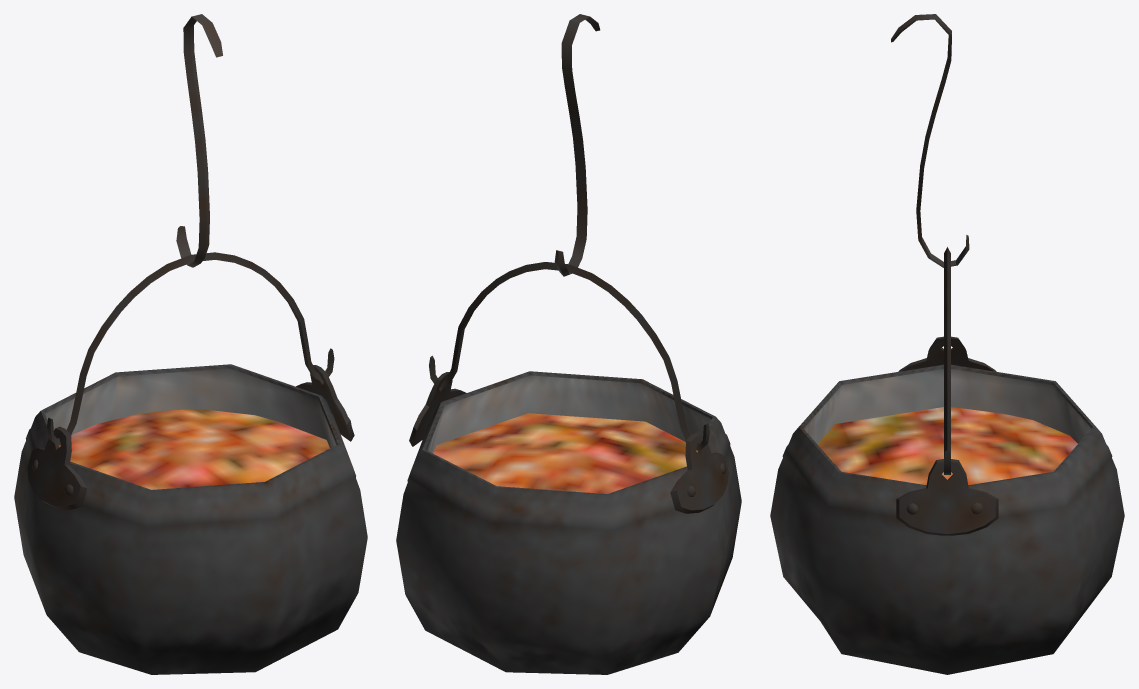
File: CAMP_stew.FBX
3 renders of one model, left to right at view 1: azimuth 30°, elevation 25°; view 2: azimuth 150°, elevation 25°; view 3: azimuth 270°, elevation 25°, orthographic. The views are drawn at different scales.
Visible parts, largest first — view 1: CAMP_stew; view 2: CAMP_stew; view 3: CAMP_stew.
Part boxes in pixels (box(x1,y1,x2,y2)): CAMP_stew: box(14, 14, 367, 674); CAMP_stew: box(396, 14, 741, 674); CAMP_stew: box(770, 14, 1124, 674).
Bounding box in the file's own units: 34.85 × 67.88 × 34.85.
Materials: 1 (1 with a texture image).
